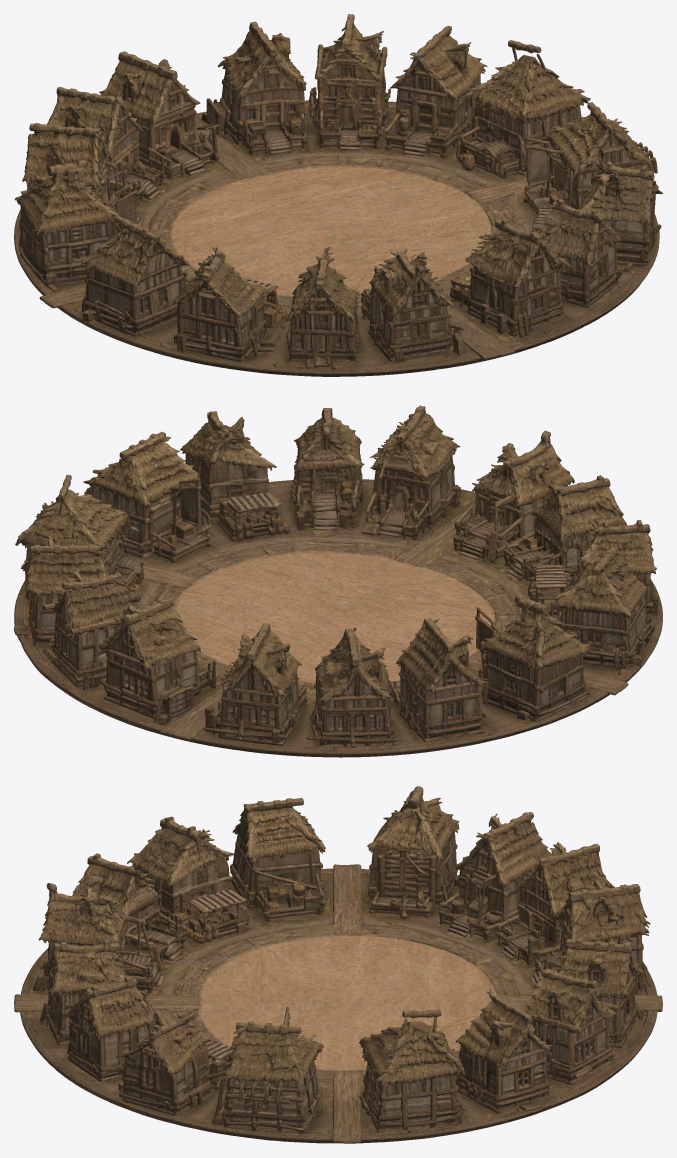
The model's file is ring_city.glb.
3 views of the same model, one above another, from view 1: azimuth 30°, elevation 25°; view 2: azimuth 150°, elevation 25°; view 3: azimuth 270°, elevation 25° (orthographic).
Bounding box in the file's own units: 1.9 × 0.3579 × 1.88.
1 material, 1 textured.
